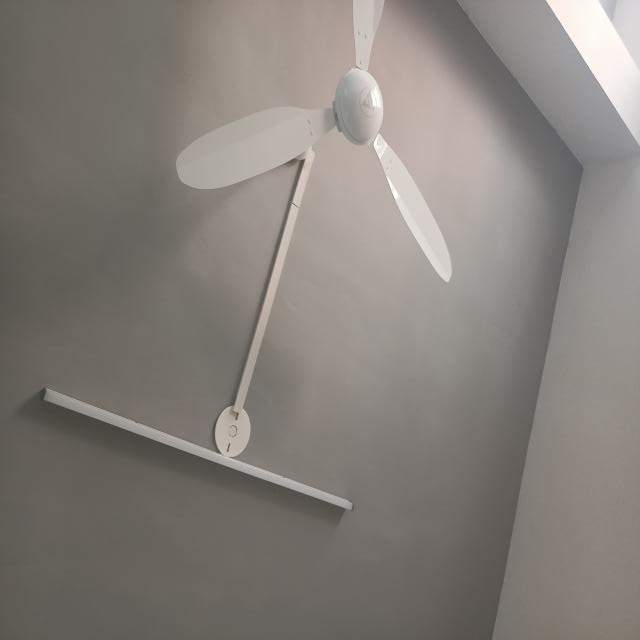fluorescent tube: (35, 384, 362, 519)
